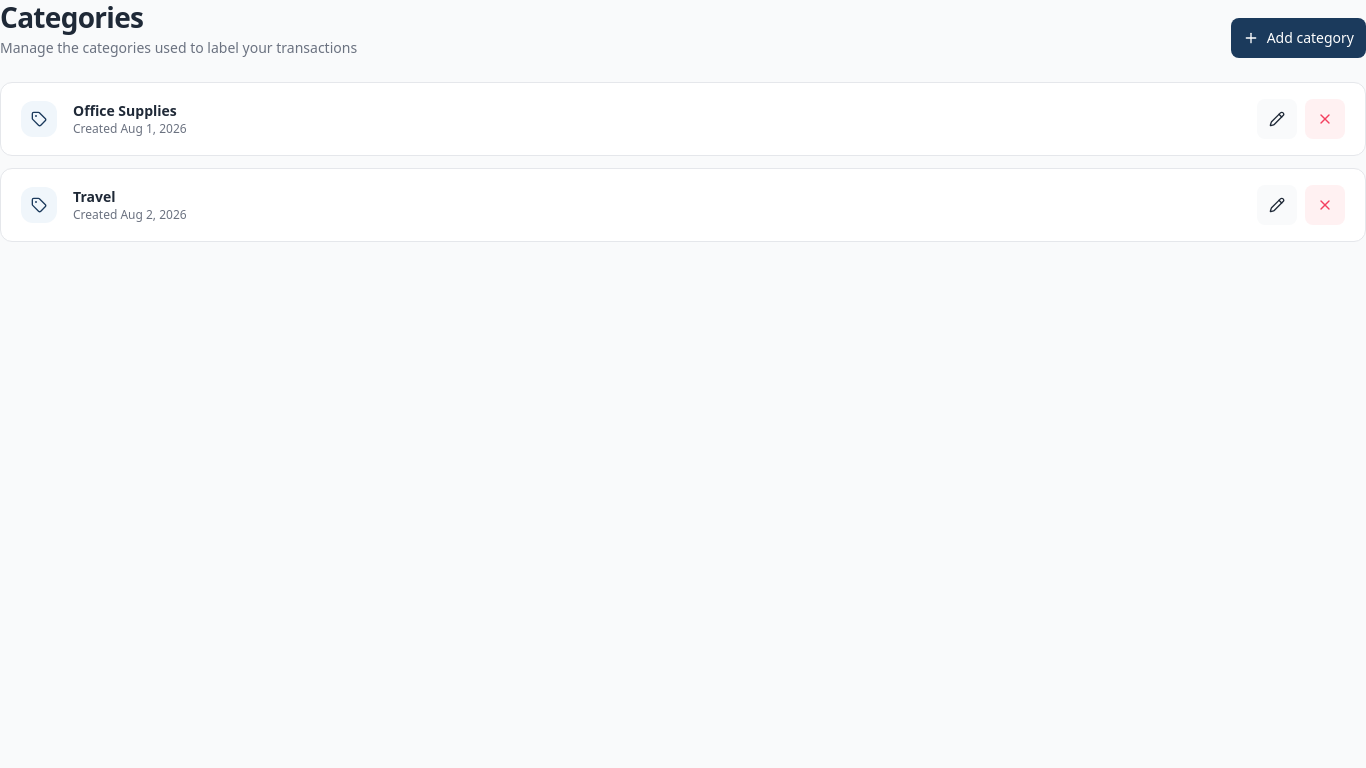
Test: categories › adds a category
The width and height of the screenshot is (1366, 768).
Check: the text "Travel" is shown, box top-left (73, 187), bottom-right (116, 206)
Click the button "Add category" at (1298, 38), box top-left (1231, 18), bottom-right (1365, 58)
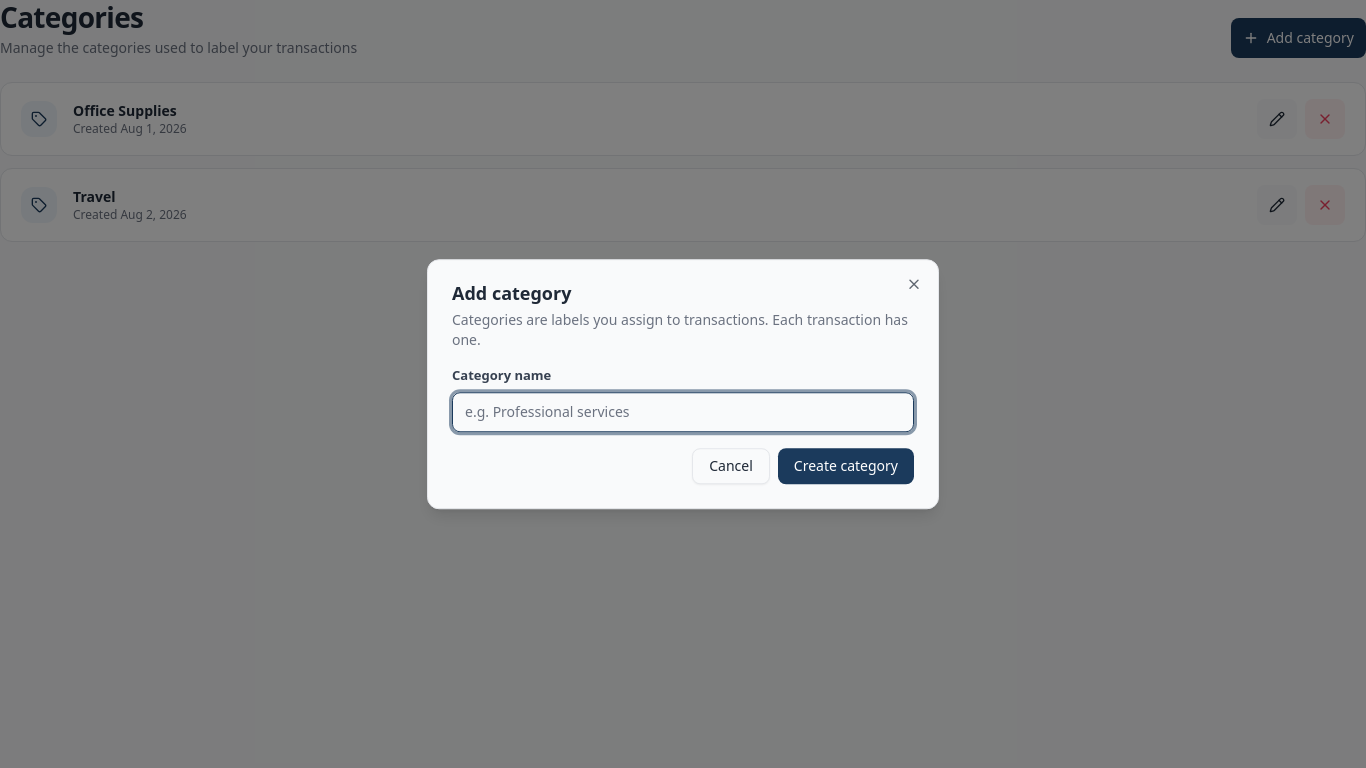
Type "Client gifts" into the field labelled "Category name" at (683, 412), box top-left (452, 392), bottom-right (914, 432)
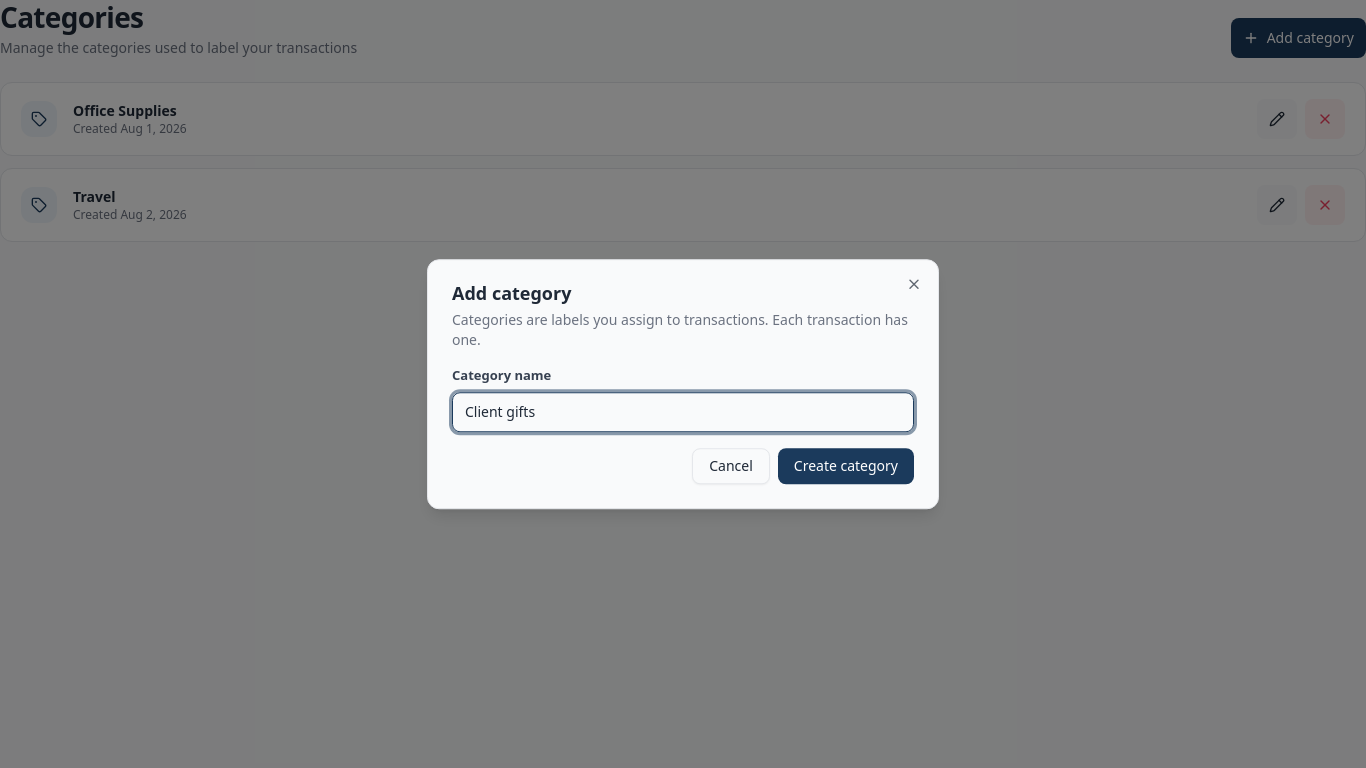
Click the button "Create category" at (846, 466), box top-left (778, 448), bottom-right (914, 484)
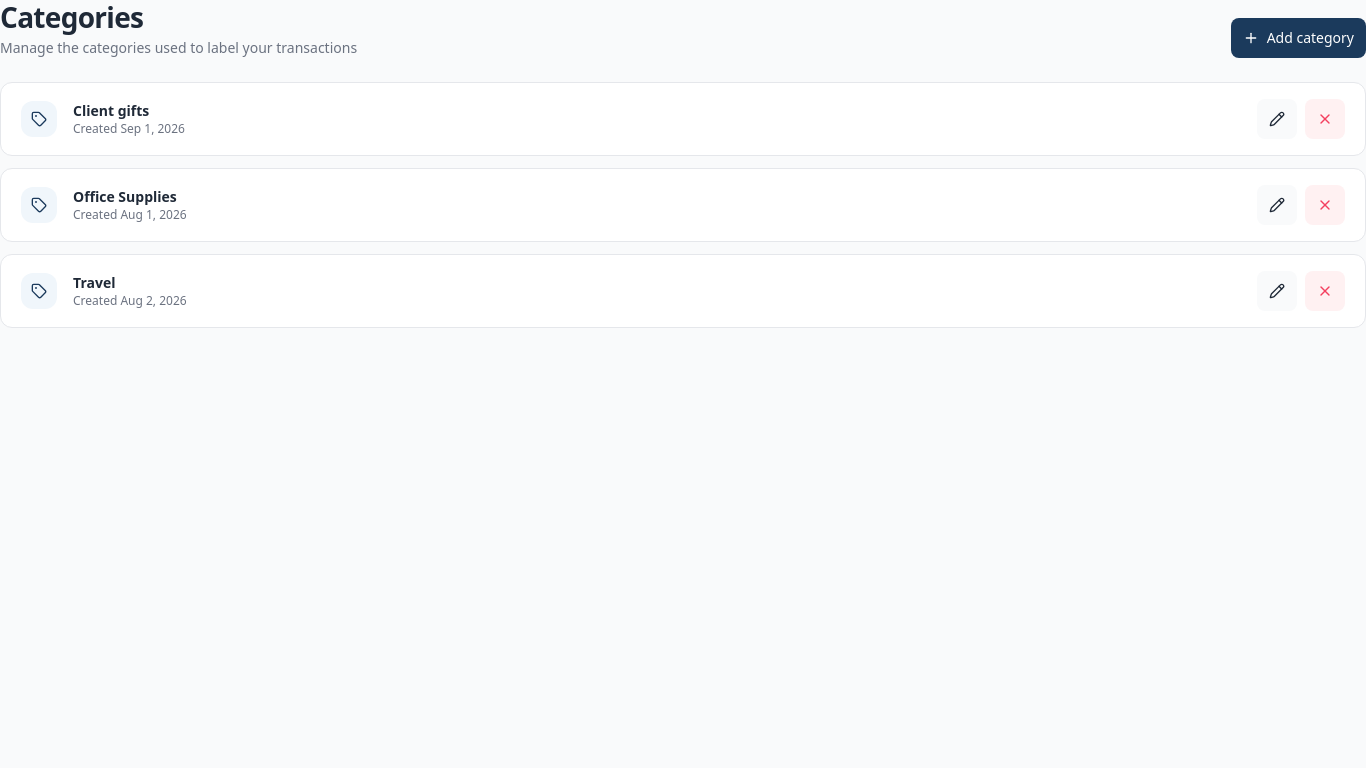
Check: the text "Client gifts" is shown, box top-left (73, 101), bottom-right (149, 120)
Check: the dialog is gone
